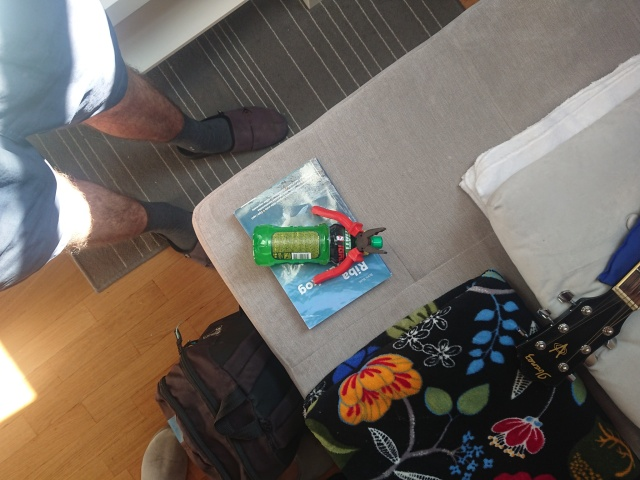Vindi Iso Sport Lemon-Grapefruit 500mL: (250, 221, 385, 269)
